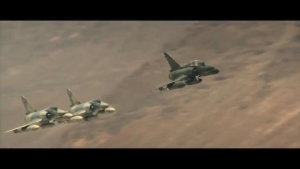flight: (3, 96, 74, 135), (156, 51, 220, 91), (57, 88, 116, 121)
